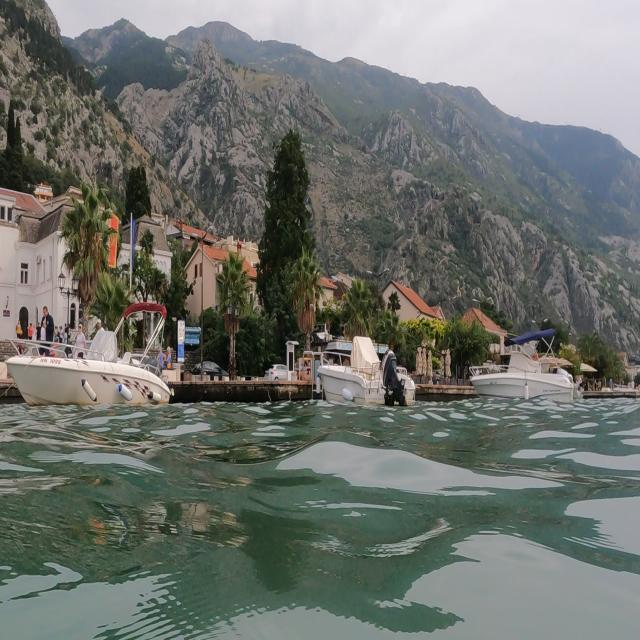boat: (5, 298, 174, 411), (467, 320, 589, 409), (318, 330, 422, 420)
